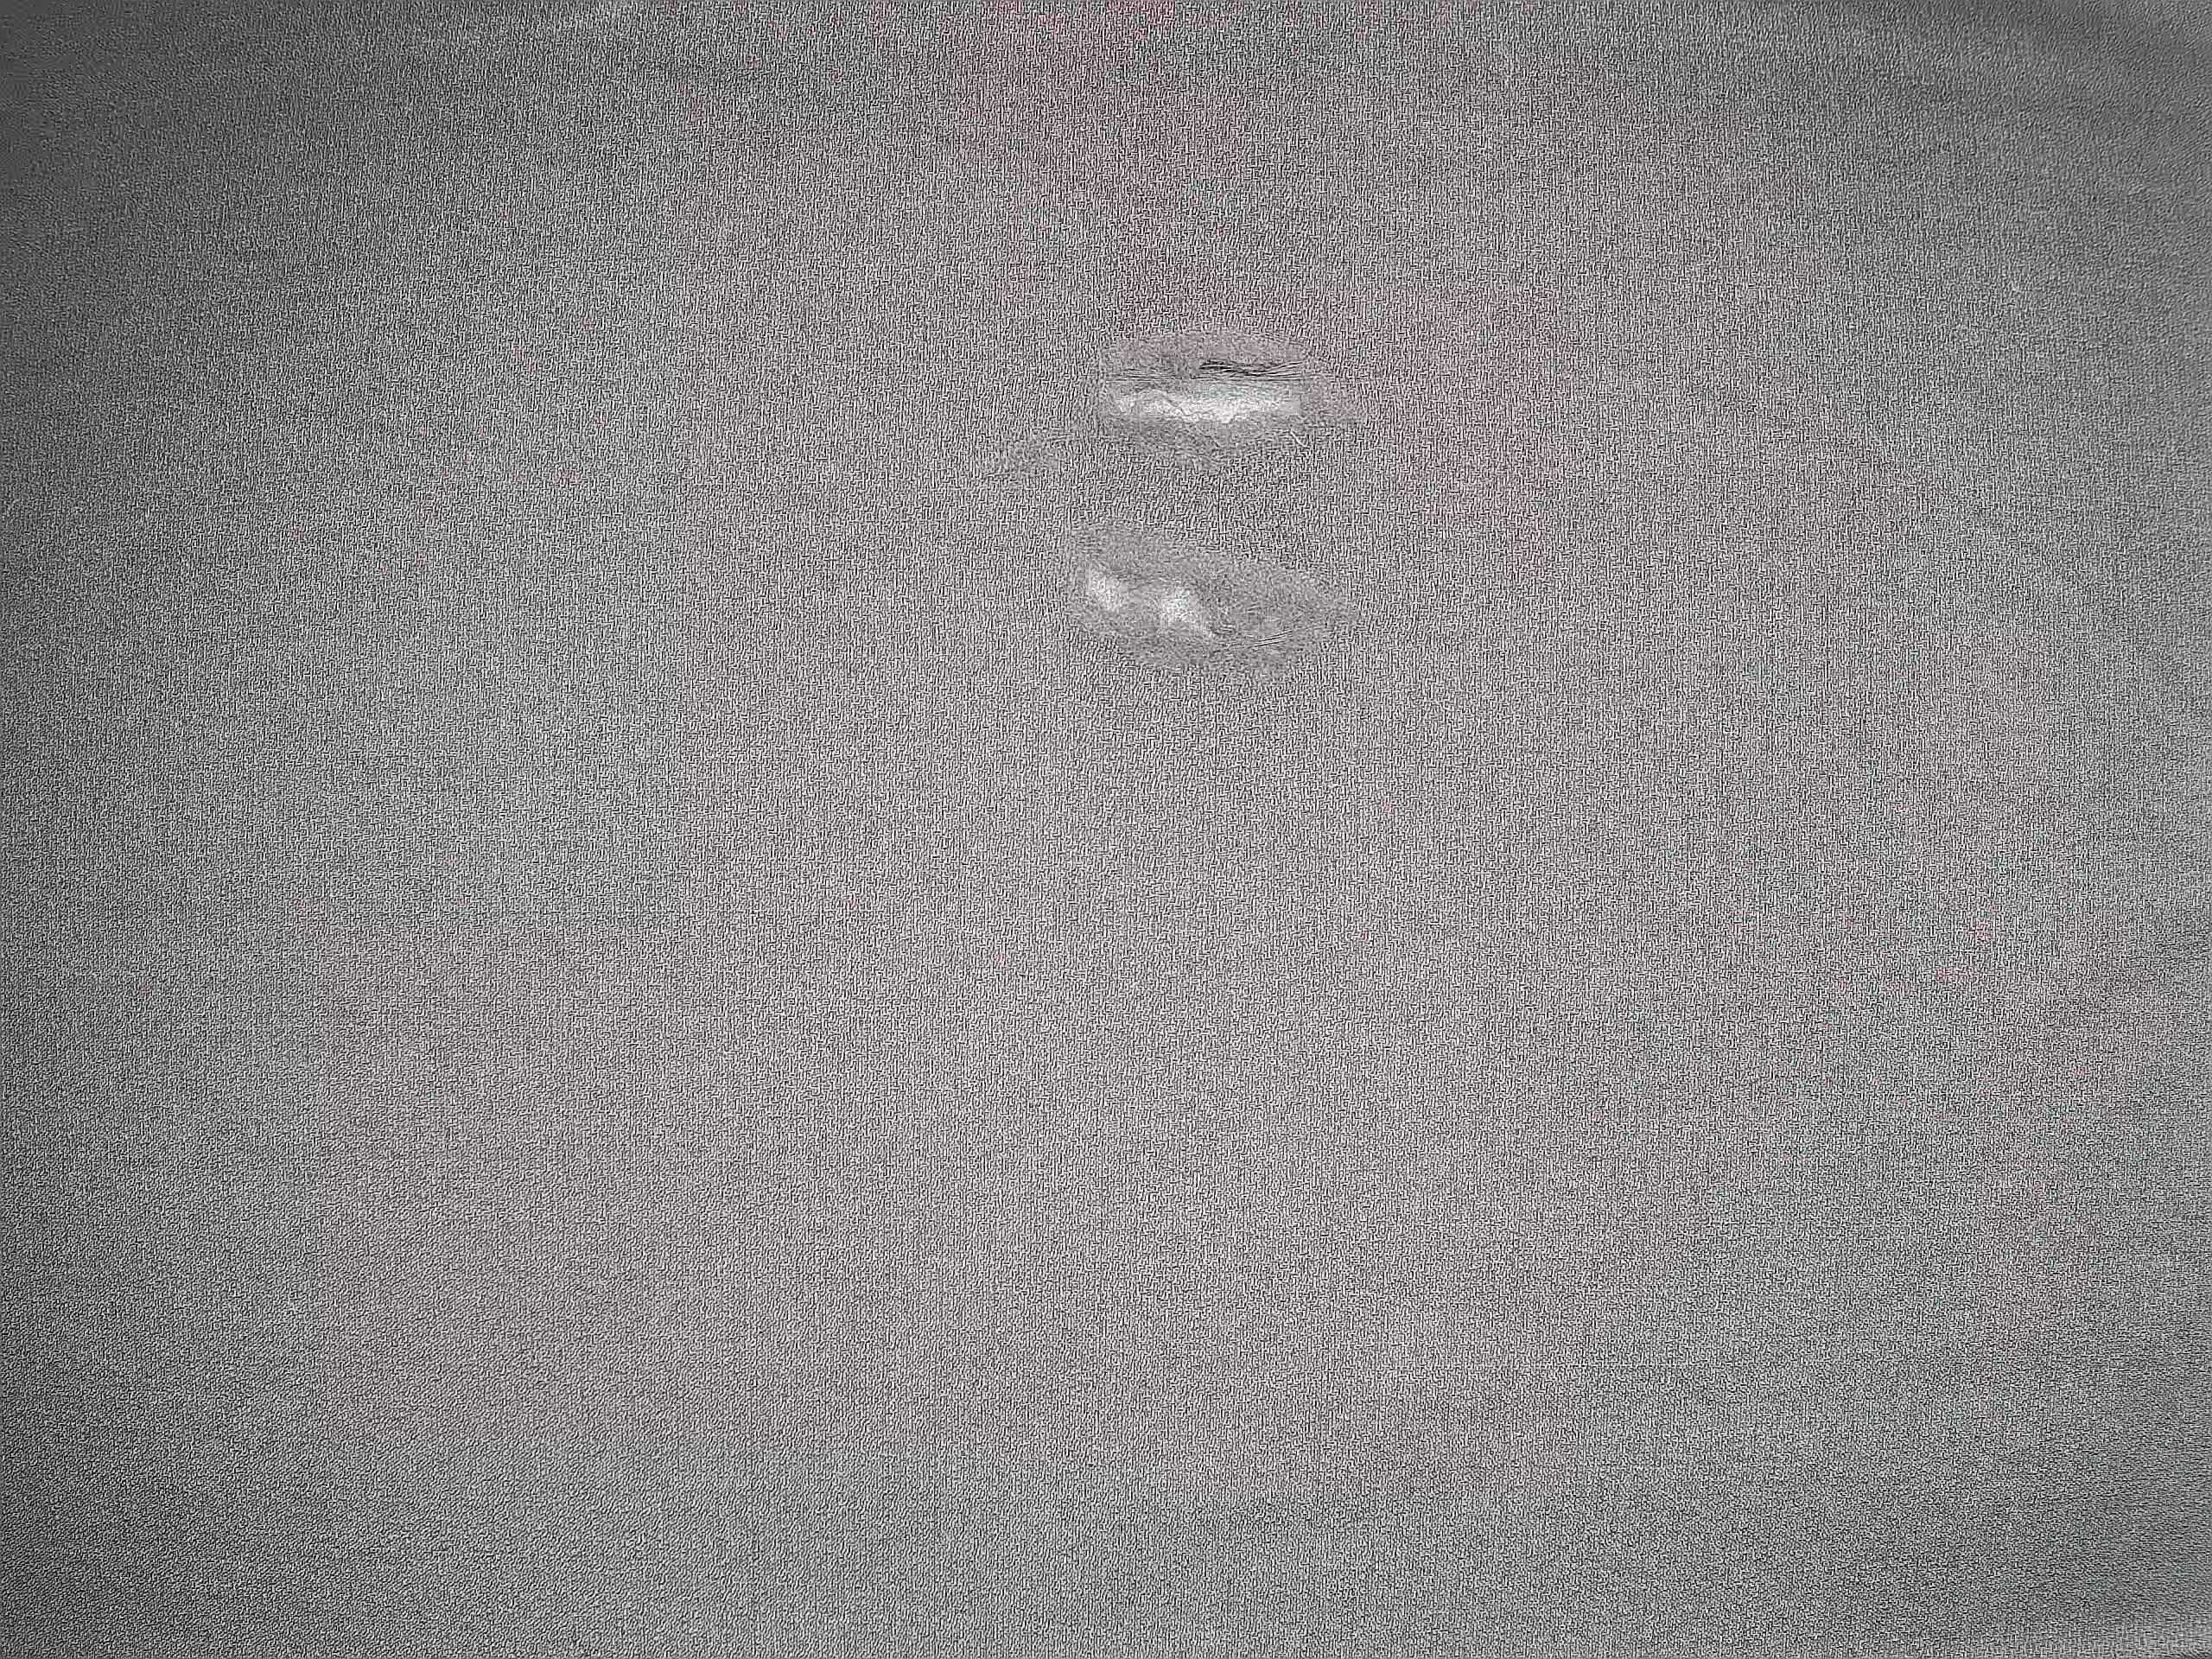rubbing-hole: (1069, 307, 1352, 471), (1047, 518, 1299, 690)
